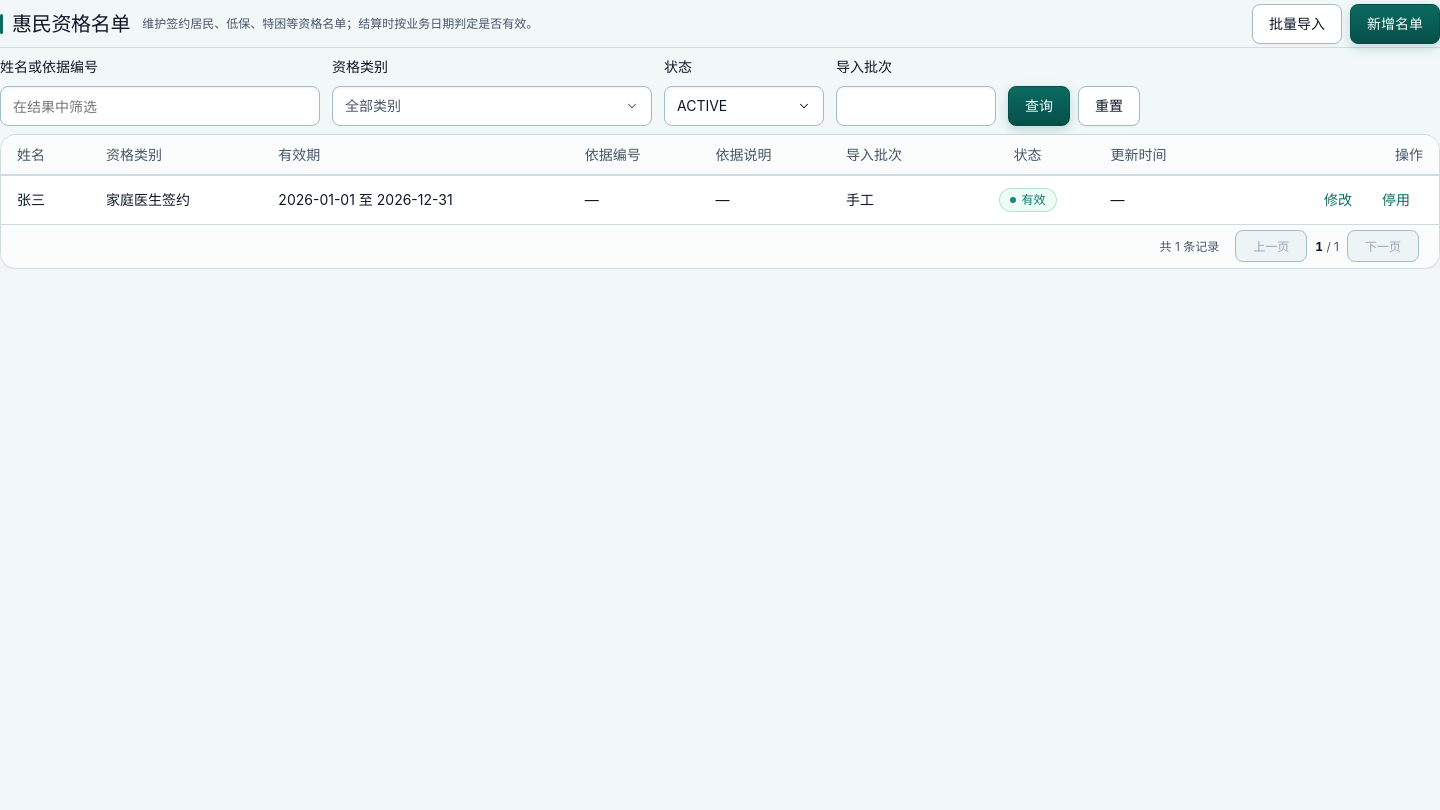
ReliefRosterManagement › revokes an entry with a reason and the current revision
Expected: the text "张三" is shown, [1,175,90,224]
Click the button "停用" at (1396, 200), box [1369,184,1423,216]
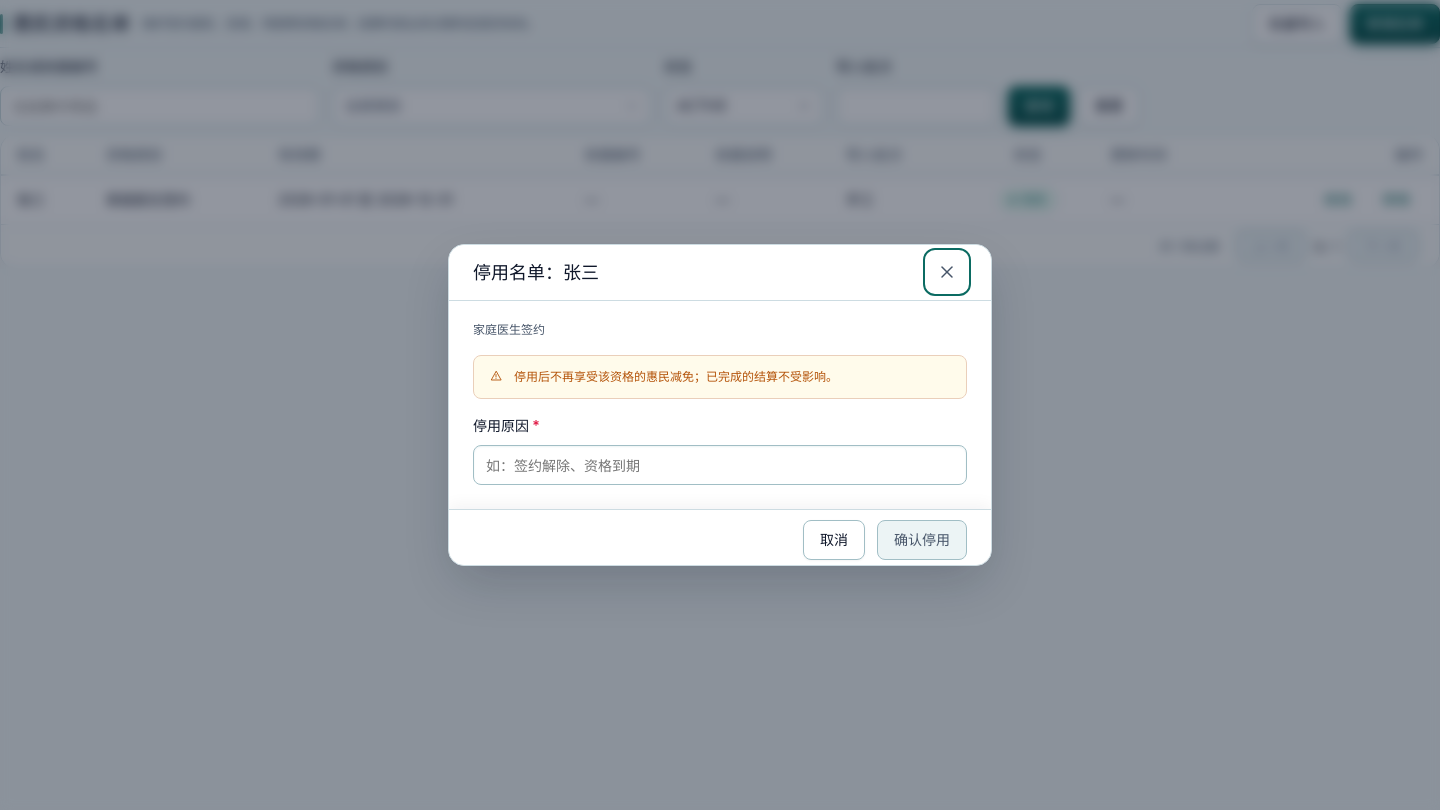
Expected: the button "确认停用" is disabled, [877,520,967,560]
Type "签约解除" into the field labelled "停用原因*" at (720, 466), box [473,446,967,486]
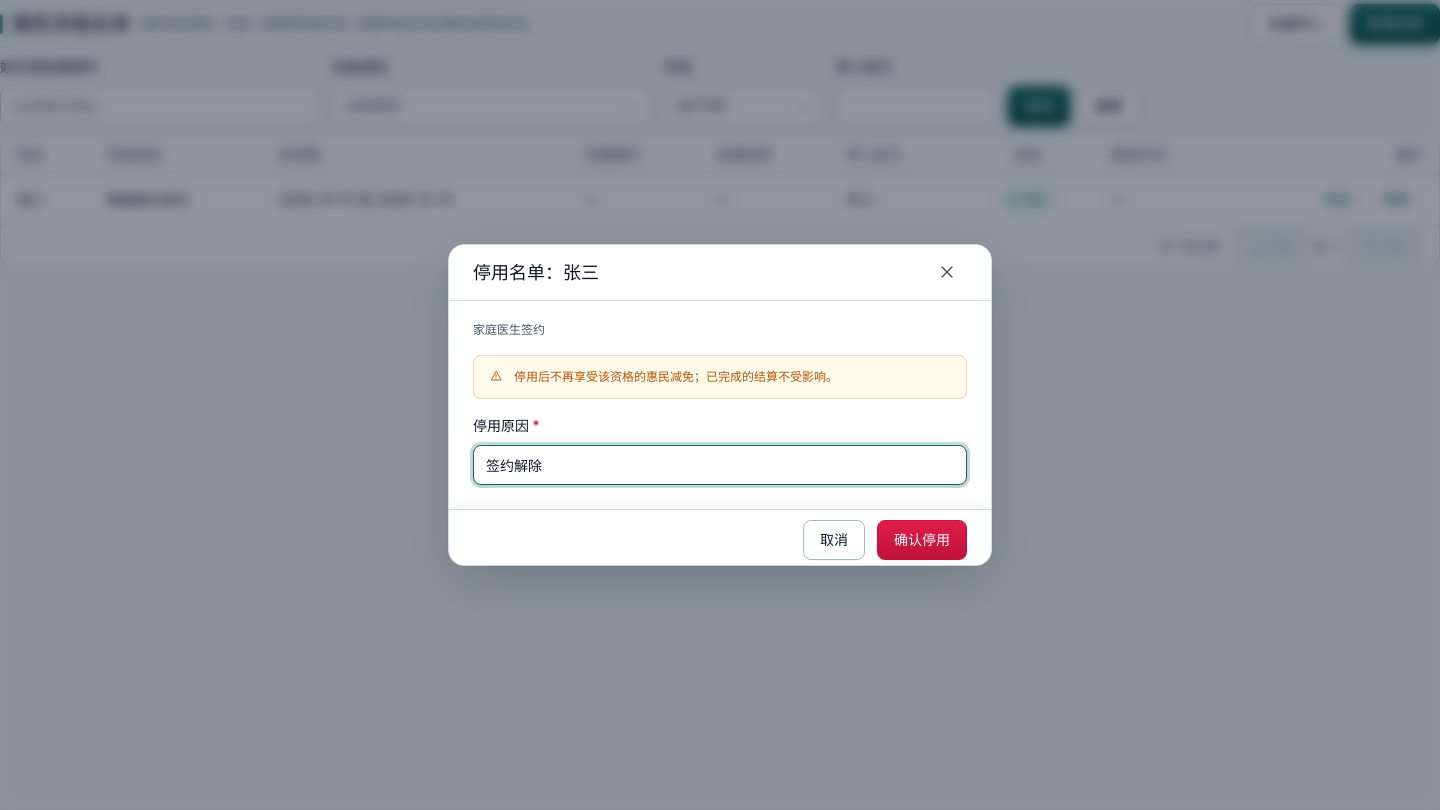
Click the button "确认停用" at (922, 540), box [877,520,967,560]
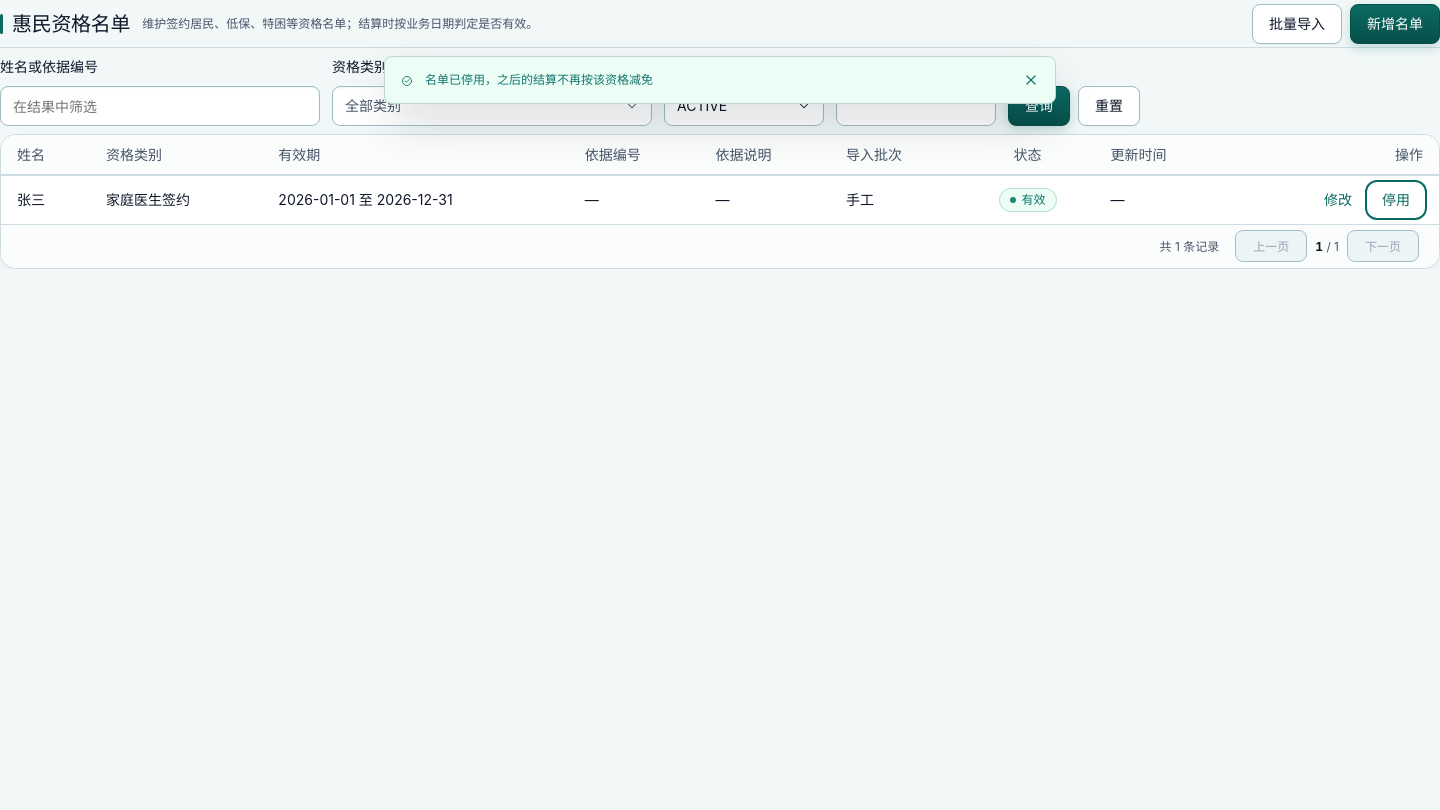
Expected: the text "名单已停用，之后的结算不再按该资格减免" is shown, [425,72,653,87]
